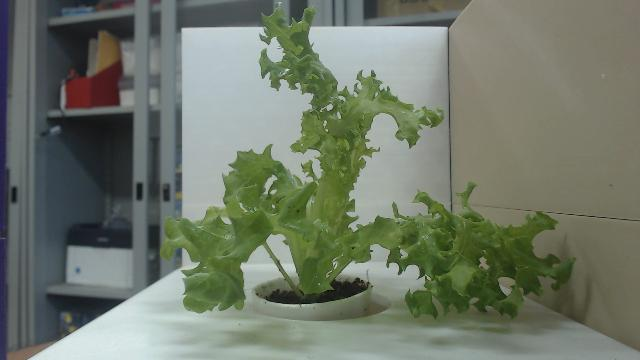Harvest Stage: (158, 1, 578, 322)
